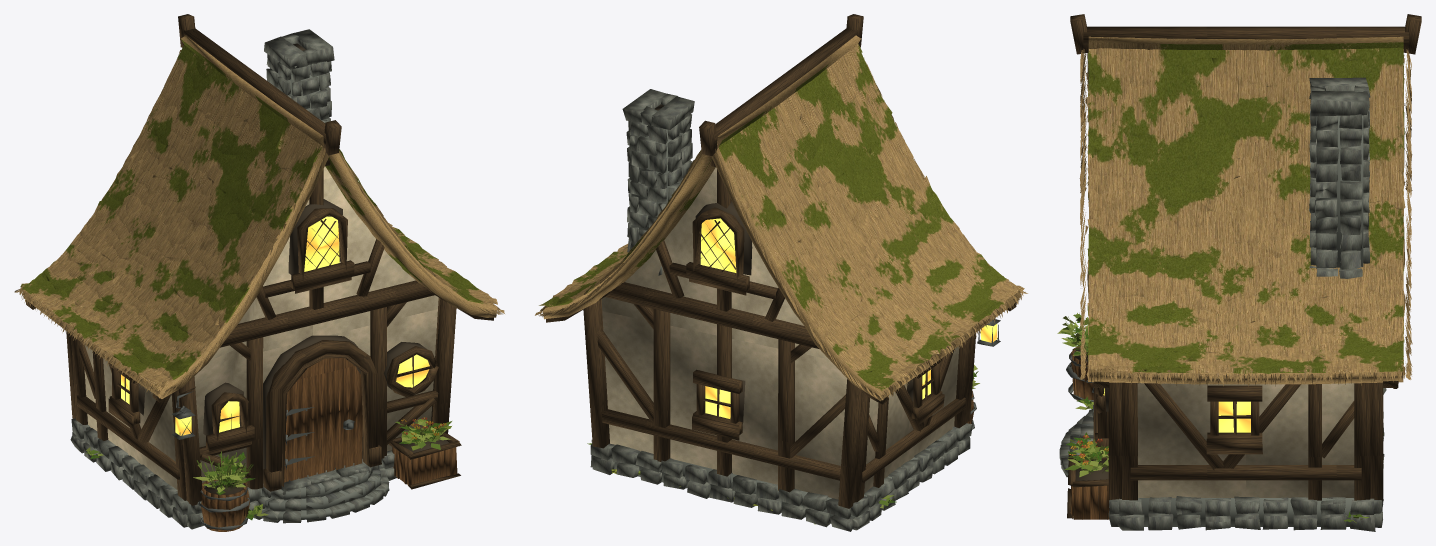
The model's file is storybook-cottage.glb.
3 views of the same model, side by side, from view 1: azimuth 30°, elevation 25°; view 2: azimuth 150°, elevation 25°; view 3: azimuth 270°, elevation 25° (orthographic). The views are drawn at different scales.
Parts seen in each view (by area): view 1: storybook-cottage; view 2: storybook-cottage; view 3: storybook-cottage.
Boxes of the visible parts, x1=… form: storybook-cottage: x1=14, y1=14, x2=504, y2=531; storybook-cottage: x1=535, y1=14, x2=1027, y2=531; storybook-cottage: x1=1057, y1=14, x2=1421, y2=531.
Size of the model in its own units: 6.58 by 7 by 5.22.
Materials: 22 (7 with a texture image).
